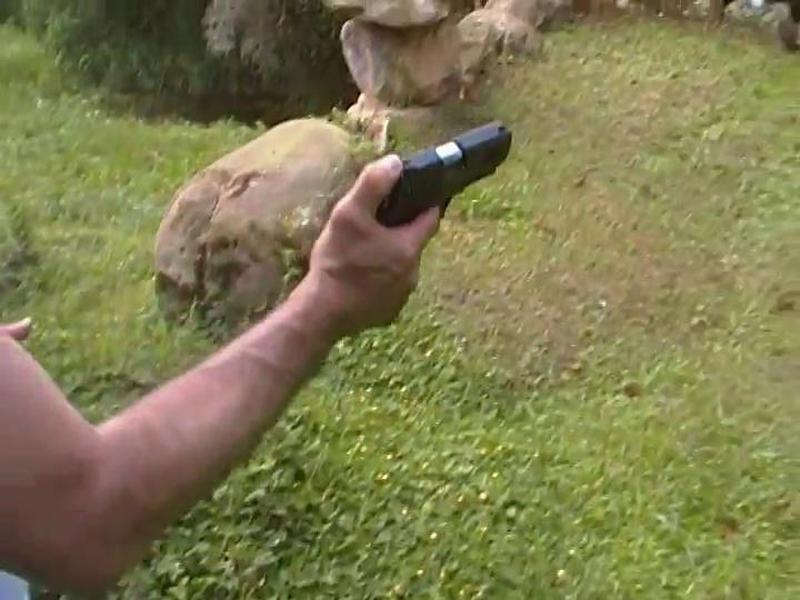Pistola: (358, 116, 528, 256)
